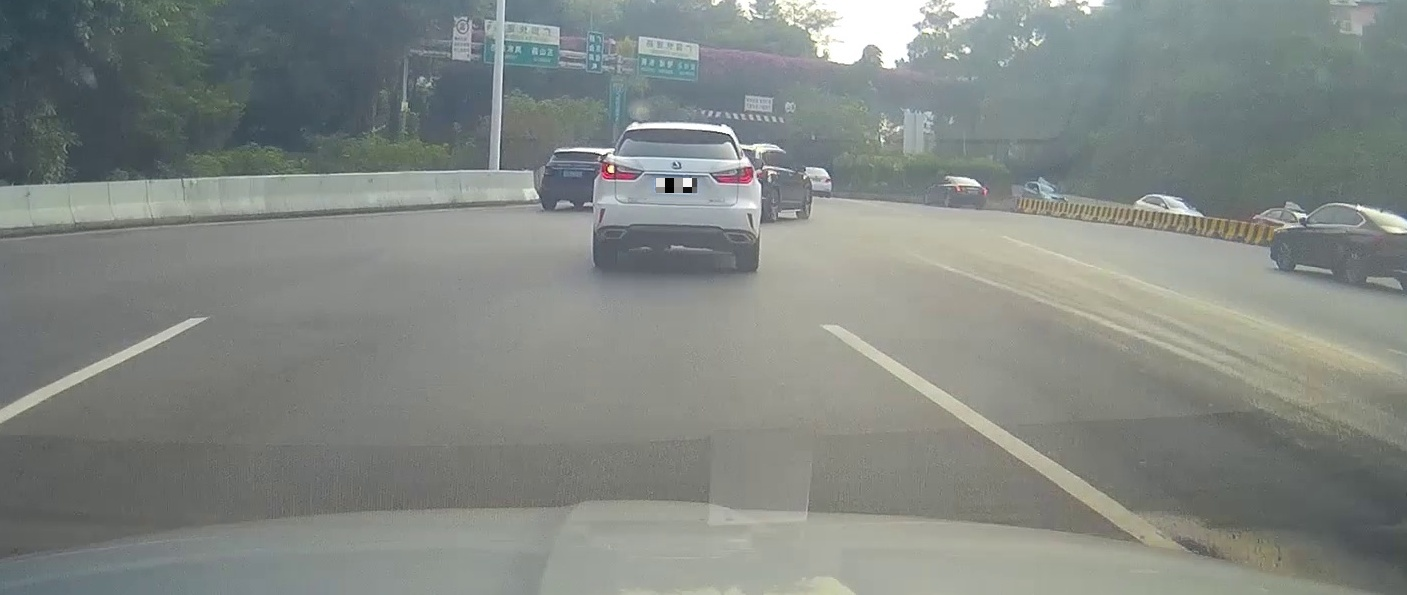L_light: (601, 161, 643, 180)
R_light: (710, 167, 753, 184)
T_light: (670, 130, 689, 133)
day-left: (592, 124, 760, 271)
plate_1: (656, 178, 697, 193)
